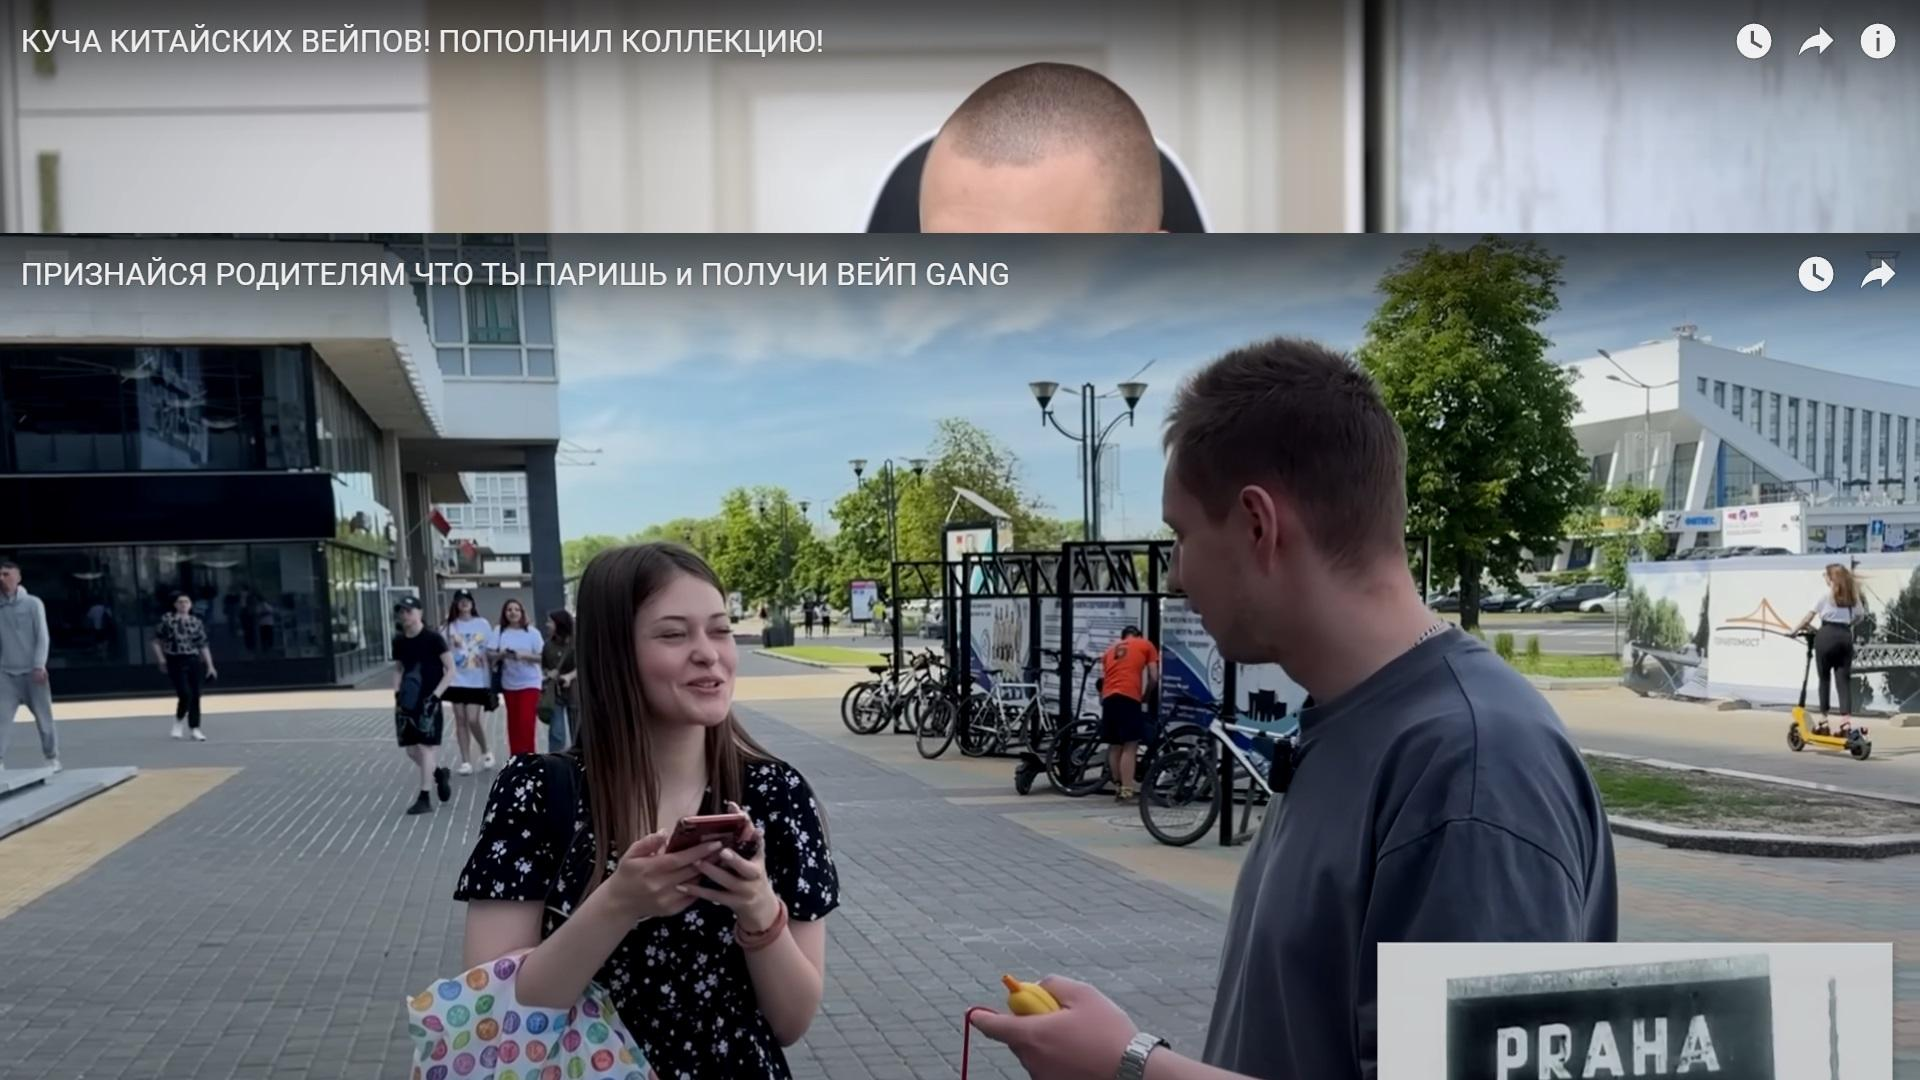Vape: (1002, 975, 1060, 1015)
